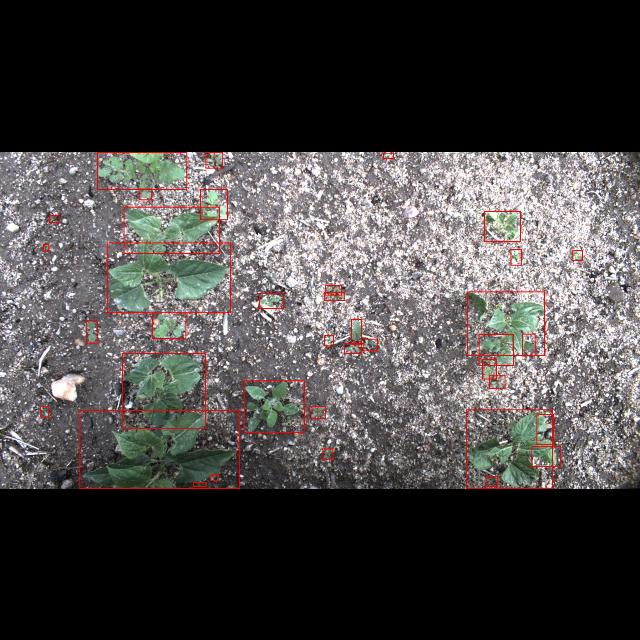crop: (80, 410, 238, 488), (107, 242, 231, 312), (466, 409, 552, 488), (122, 352, 205, 428), (467, 291, 545, 355), (124, 205, 220, 252), (484, 211, 520, 241)
weed: (97, 152, 187, 188), (244, 380, 304, 432), (478, 334, 514, 364), (152, 312, 186, 338), (200, 189, 228, 219), (532, 446, 560, 466), (536, 414, 554, 444), (259, 292, 283, 308), (482, 359, 496, 379), (205, 151, 222, 167), (86, 320, 98, 342), (522, 333, 534, 355), (351, 318, 361, 344), (489, 376, 505, 388), (344, 343, 362, 353), (324, 284, 342, 294), (310, 406, 324, 418), (364, 338, 378, 350), (511, 248, 521, 264), (325, 292, 345, 300), (138, 188, 152, 198), (323, 448, 333, 459), (487, 476, 498, 486), (324, 335, 334, 345), (573, 250, 583, 260), (40, 406, 48, 416), (49, 214, 59, 222), (383, 152, 393, 158), (210, 474, 218, 480), (194, 482, 206, 486), (43, 243, 49, 250)
